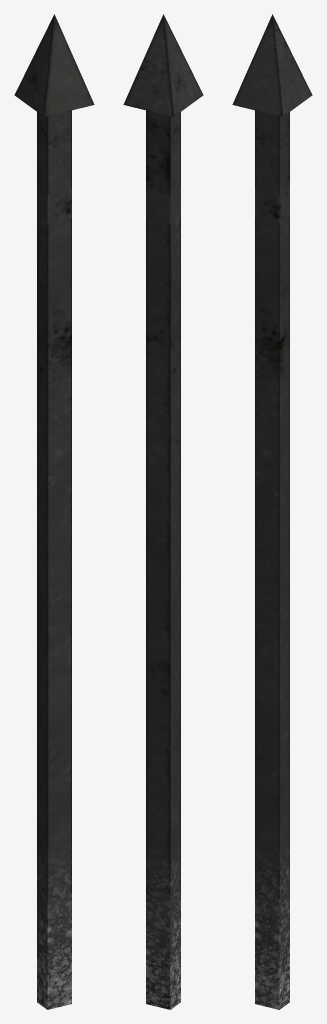
The model's file is FenceSingular.fbx.
3 views of the same model, side by side, from view 1: azimuth 30°, elevation 25°; view 2: azimuth 150°, elevation 25°; view 3: azimuth 330°, elevation 25° (orthographic).
Parts seen in each view (by area): view 1: Cube.038; view 2: Cube.038; view 3: Cube.038.
Boxes of the visible parts, box(x1,y1,x2,y2) form: Cube.038: box(14, 14, 94, 1009); Cube.038: box(123, 14, 203, 1009); Cube.038: box(232, 14, 312, 1009).
Bounding box in the file's own units: 49.67 × 934 × 51.18.
